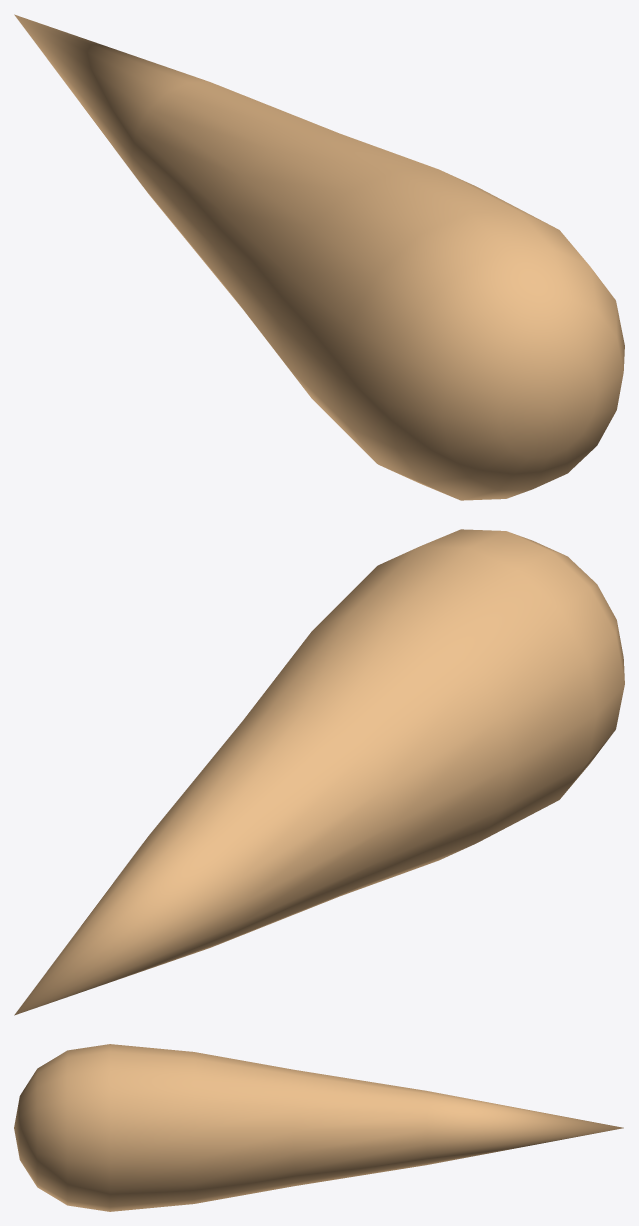
Rendered from Needle01.fbx.
3 renders of one model, top to bottom at view 1: azimuth 30°, elevation 25°; view 2: azimuth 150°, elevation 25°; view 3: azimuth 270°, elevation 25°, orthographic. The views are drawn at different scales.
Visible parts, largest first — view 1: Needle; view 2: Needle; view 3: Needle.
Boxes of the visible parts, box(x1,y1,x2,y2) form: Needle: box(14, 14, 624, 500); Needle: box(14, 529, 624, 1015); Needle: box(14, 1044, 623, 1211).
Bounding box in the file's own units: 26 × 26 × 94.51.
